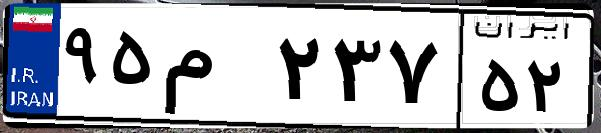2: (270, 28, 330, 110), (525, 38, 570, 115)
3: (330, 28, 385, 110)
5: (475, 38, 525, 113), (110, 28, 158, 98)
7: (385, 28, 445, 110)
9: (57, 26, 110, 100)
م: (158, 20, 270, 120)
